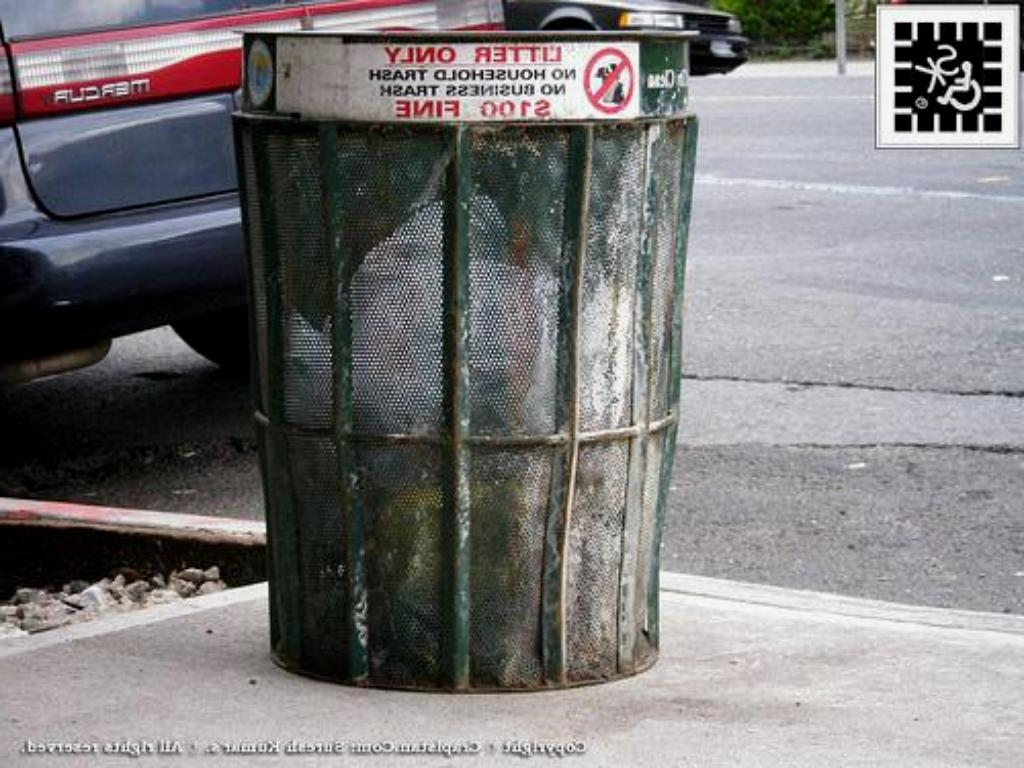dustbin: (210, 15, 723, 701)
